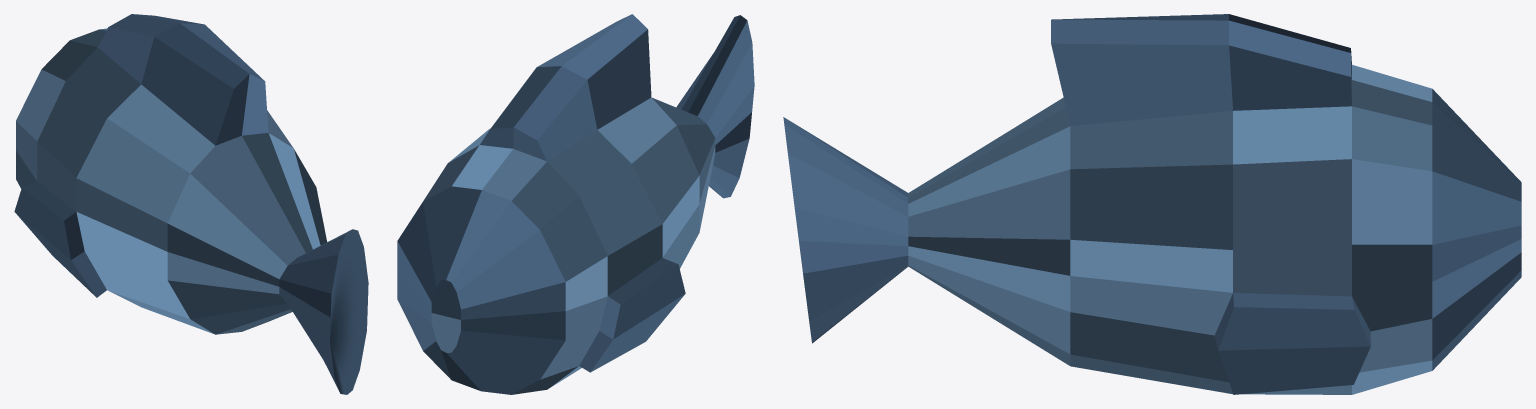
The model's file is fish01_2.fbx.
3 views of the same model, side by side, from view 1: azimuth 30°, elevation 25°; view 2: azimuth 150°, elevation 25°; view 3: azimuth 270°, elevation 25° (orthographic). The views are drawn at different scales.
Parts seen in each view (by area): view 1: Cube; view 2: Cube; view 3: Cube.
Part boxes in pixels (x1,y1,x2,y2): Cube: (14,14,368,394); Cube: (397,14,754,394); Cube: (783,14,1521,394).
Bounding box in the file's own units: 57.46 × 67.18 × 125.
